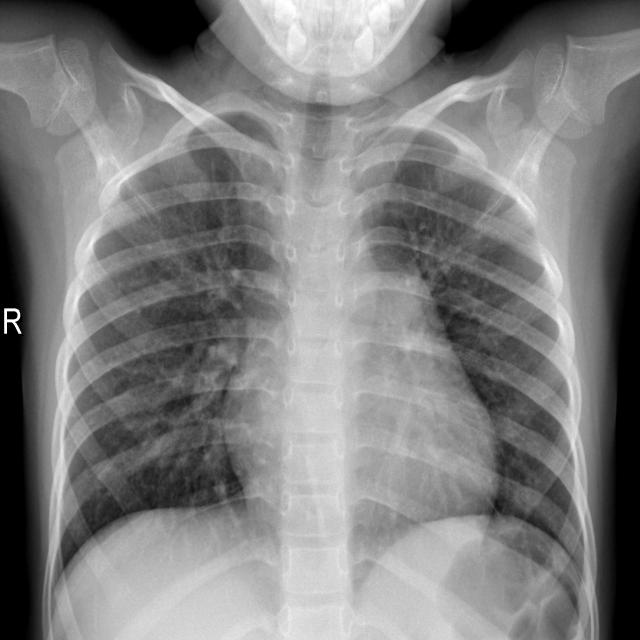no-pneumonia: (48, 102, 280, 598), (355, 112, 591, 559)
